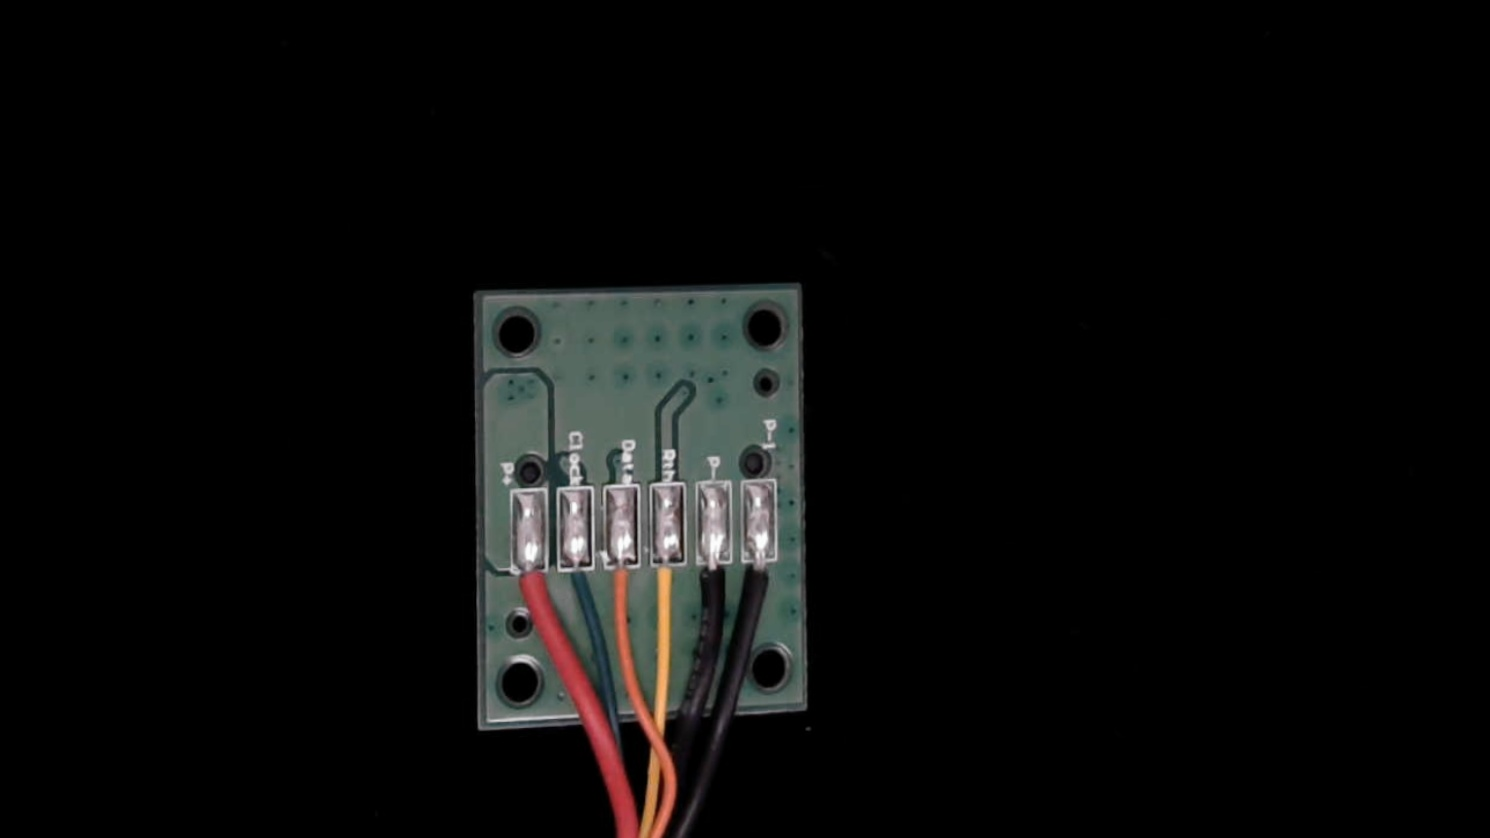Black: (695, 540, 736, 637)
Black1: (742, 539, 781, 628)
Green: (561, 545, 600, 629)
Orange: (602, 546, 642, 643)
Red: (508, 550, 549, 645)
Yellow: (647, 542, 688, 641)
